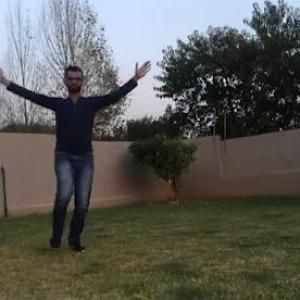takeoff: (1, 64, 142, 256)
